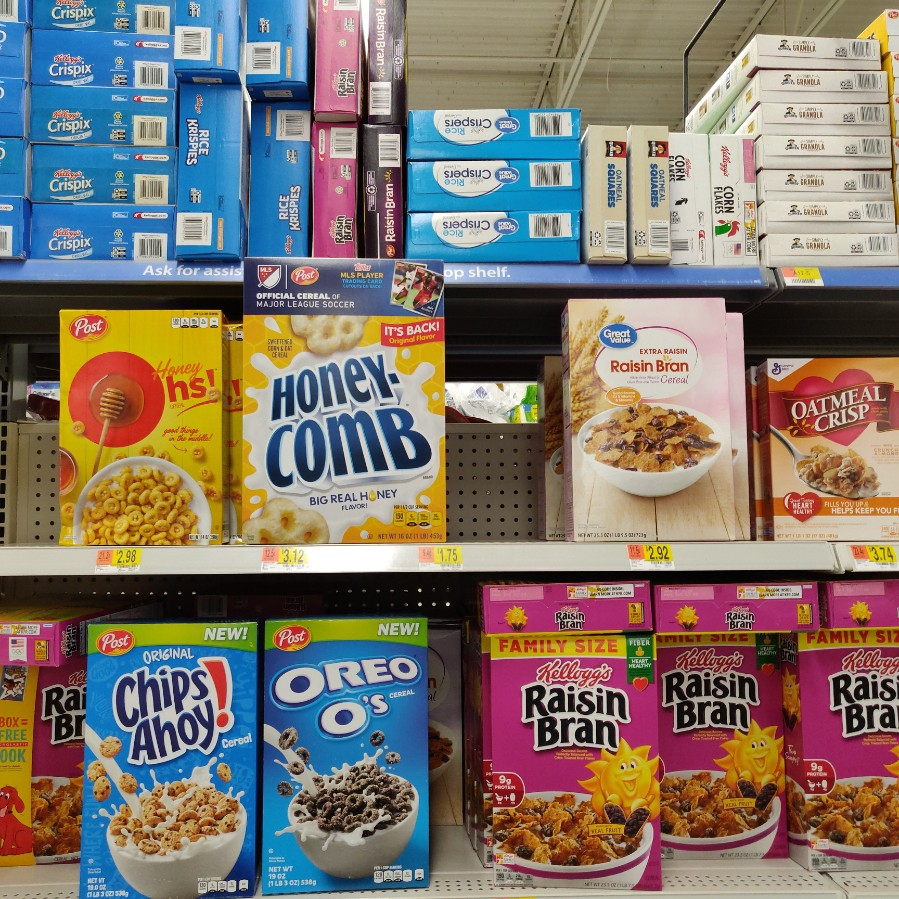Chips Ahoys-565717529: (87, 624, 262, 893)
Honey Comb- 009288857: (243, 259, 445, 541)
Oreo-563424384: (266, 616, 432, 891)
